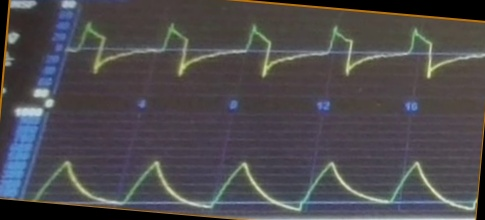Normal Flow: (70, 20, 483, 94)
Normal Volume: (32, 147, 475, 213)
